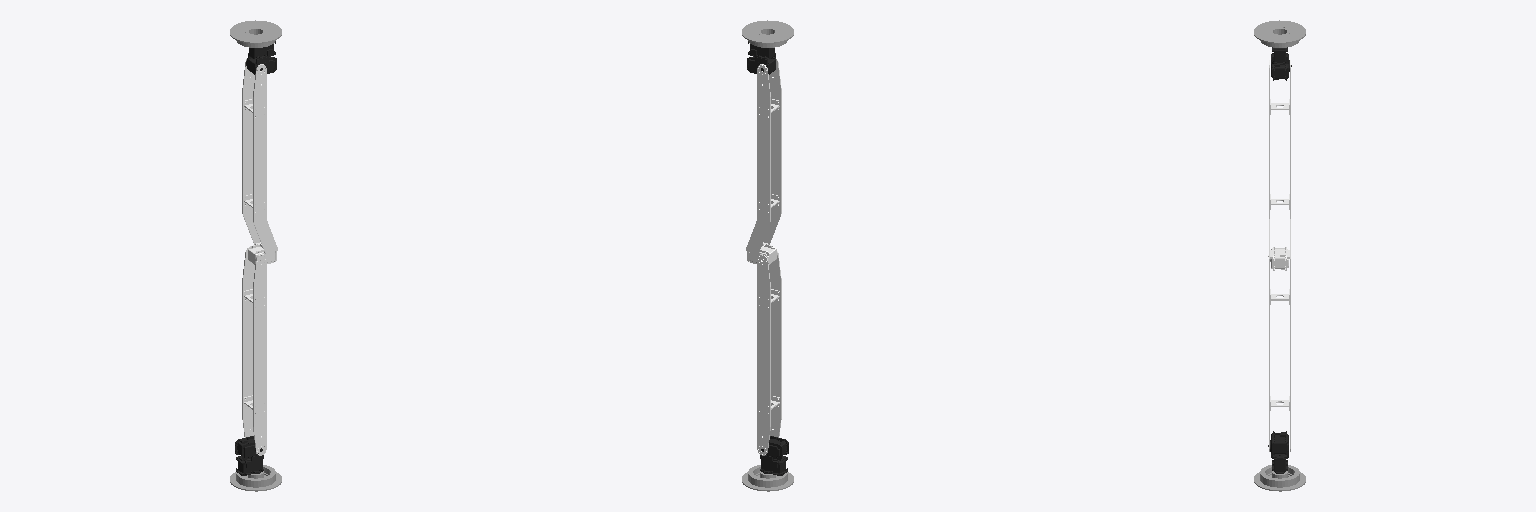
robot.urdf — cssgra_description:
<?xml version="1.0" encoding="utf-8"?>
<!-- This URDF was automatically created by SolidWorks to URDF Exporter! Originally created by [author] ([email redacted]) 
     Commit Version: 1.6.0-1-g15f4949  Build Version: 1.6.7594.29634
     For more information, please see http://wiki.ros.org/sw_urdf_exporter -->
<robot
  name="cssgra_description">
  <link
    name="base_link">
    <inertial>
      <origin
        xyz="3.38135552543917E-18 1.39995301592574E-14 0.00865340704835349"
        rpy="0 0 0" />
      <mass
        value="0.104081875675298" />
      <inertia
        ixx="9.34114138754385E-05"
        ixy="3.3881317890172E-20"
        ixz="-4.84750654577744E-21"
        iyy="9.34114138754385E-05"
        iyz="1.32672194581939E-21"
        izz="0.000180182404564937" />
    </inertial>
    <visual>
      <origin
        xyz="0 0 0"
        rpy="0 0 0" />
      <geometry>
        <mesh
          filename="package://cssgra_description/meshes/base_link.STL" />
      </geometry>
      <material
        name="">
        <color
          rgba="0.705882352941176 0.705882352941176 0.705882352941176 1" />
      </material>
    </visual>
    <collision>
      <origin
        xyz="0 0 0"
        rpy="0 0 0" />
      <geometry>
        <mesh
          filename="package://cssgra_description/meshes/base_link.STL" />
      </geometry>
    </collision>
  </link>
  <link
    name="link_1">
    <inertial>
      <origin
        xyz="-0.000271681271952353 -0.0150140766790528 -0.0213414598487383"
        rpy="0 0 0" />
      <mass
        value="0.14834901352298" />
      <inertia
        ixx="5.50771105643597E-05"
        ixy="8.81204363357832E-07"
        ixz="2.95382564559529E-14"
        iyy="3.39857451221958E-05"
        iyz="-8.81206909226304E-07"
        izz="5.50472493095356E-05" />
    </inertial>
    <visual>
      <origin
        xyz="0 0 0"
        rpy="0 0 0" />
      <geometry>
        <mesh
          filename="package://cssgra_description/meshes/link_1.STL" />
      </geometry>
      <material
        name="">
        <color
          rgba="0.207843137254902 0.207843137254902 0.207843137254902 1" />
      </material>
    </visual>
    <collision>
      <origin
        xyz="0 0 0"
        rpy="0 0 0" />
      <geometry>
        <mesh
          filename="package://cssgra_description/meshes/link_1.STL" />
      </geometry>
    </collision>
  </link>
  <joint
    name="joint_1"
    type="revolute">
    <origin
      xyz="0 0 0.0464999999999995"
      rpy="3.14159265358979 0 1.57079632844264" />
    <parent
      link="base_link" />
    <child
      link="link_1" />
    <axis
      xyz="0 0 1" />
    <limit
      lower="-3.1416"
      upper="3.1416"
      effort="0"
      velocity="0" />
  </joint>
  <link
    name="link_2">
    <inertial>
      <origin
        xyz="0.250090421520455 4.99999969142107E-05 0.00353644336773435"
        rpy="0 0 0" />
      <mass
        value="0.122021305147145" />
      <inertia
        ixx="1.81887274604454E-05"
        ixy="-3.57515676032217E-17"
        ixz="3.82702100995332E-08"
        iyy="0.00222747645130509"
        iyz="5.7329358274516E-15"
        izz="0.00222089842478331" />
    </inertial>
    <visual>
      <origin
        xyz="0 0 0"
        rpy="0 0 0" />
      <geometry>
        <mesh
          filename="package://cssgra_description/meshes/link_2.STL" />
      </geometry>
      <material
        name="">
        <color
          rgba="1 1 1 1" />
      </material>
    </visual>
    <collision>
      <origin
        xyz="0 0 0"
        rpy="0 0 0" />
      <geometry>
        <mesh
          filename="package://cssgra_description/meshes/link_2.STL" />
      </geometry>
    </collision>
  </link>
  <joint
    name="joint_2"
    type="revolute">
    <origin
      xyz="0 0 -0.0431000000000004"
      rpy="1.57079632931414 1.5707963267949 0" />
    <parent
      link="link_1" />
    <child
      link="link_2" />
    <axis
      xyz="0 -1 0" />
    <limit
      lower="-3.1416"
      upper="3.1416"
      effort="0"
      velocity="0" />
  </joint>
  <link
    name="link_3">
    <inertial>
      <origin
        xyz="0.158329868400325 -0.00538321785599336 0.00016820453911892"
        rpy="0 0 0" />
      <mass
        value="0.194472672385899" />
      <inertia
        ixx="5.41049152588267E-05"
        ixy="-6.08191846183022E-05"
        ixz="-1.84657750832976E-13"
        iyy="0.00205938080734716"
        iyz="-8.81206260386423E-07"
        izz="0.00207996379707721" />
    </inertial>
    <visual>
      <origin
        xyz="0 0 0"
        rpy="0 0 0" />
      <geometry>
        <mesh
          filename="package://cssgra_description/meshes/link_3.STL" />
      </geometry>
      <material
        name="">
        <color
          rgba="1 1 1 1" />
      </material>
    </visual>
    <collision>
      <origin
        xyz="0 0 0"
        rpy="0 0 0" />
      <geometry>
        <mesh
          filename="package://cssgra_description/meshes/link_3.STL" />
      </geometry>
    </collision>
  </link>
  <joint
    name="joint_3"
    type="revolute">
    <origin
      xyz="0.5 0 0"
      rpy="1.57079632990777 0 0" />
    <parent
      link="link_2" />
    <child
      link="link_3" />
    <axis
      xyz="0 0 1" />
    <limit
      lower="0.0"
      upper="3.1416"
      effort="0"
      velocity="0" />
  </joint>
  <link
    name="link_4">
    <inertial>
      <origin
        xyz="-0.0217585393900934 -0.0150140766805797 0.000169322370938292"
        rpy="0 0 0" />
      <mass
        value="0.148349013530951" />
      <inertia
        ixx="5.50472493123864E-05"
        ixy="8.81204281678862E-07"
        ixz="-3.16296276202153E-14"
        iyy="3.39857451244317E-05"
        iyz="-8.81207102935744E-07"
        izz="5.50771105692038E-05" />
    </inertial>
    <visual>
      <origin
        xyz="0 0 0"
        rpy="0 0 0" />
      <geometry>
        <mesh
          filename="package://cssgra_description/meshes/link_4.STL" />
      </geometry>
      <material
        name="">
        <color
          rgba="0.207843137254902 0.207843137254902 0.207843137254902 1" />
      </material>
    </visual>
    <collision>
      <origin
        xyz="0 0 0"
        rpy="0 0 0" />
      <geometry>
        <mesh
          filename="package://cssgra_description/meshes/link_4.STL" />
      </geometry>
    </collision>
  </link>
  <joint
    name="joint_4"
    type="revolute">
    <origin
      xyz="0.5 0 -4.99999999685843E-05"
      rpy="-3.14159265358979 0 3.14159265358978" />
    <parent
      link="link_3" />
    <child
      link="link_4" />
    <axis
      xyz="0 0 1" />
    <limit
      lower="-3.1416"
      upper="3.1416"
      effort="0"
      velocity="0" />
  </joint>
  <link
    name="link_5">
    <inertial>
      <origin
        xyz="2.29307657008452E-18 1.58386526272459E-18 0.00865340704835363"
        rpy="0 0 0" />
      <mass
        value="0.104081875675299" />
      <inertia
        ixx="9.34114138754399E-05"
        ixy="0"
        ixz="-7.47125572669488E-21"
        iyy="9.34114138754399E-05"
        iyz="-1.32660401302391E-21"
        izz="0.000180182404564939" />
    </inertial>
    <visual>
      <origin
        xyz="0 0 0"
        rpy="0 0 0" />
      <geometry>
        <mesh
          filename="package://cssgra_description/meshes/link_5.STL" />
      </geometry>
      <material
        name="">
        <color
          rgba="0.705882352941176 0.705882352941176 0.705882352941176 1" />
      </material>
    </visual>
    <collision>
      <origin
        xyz="0 0 0"
        rpy="0 0 0" />
      <geometry>
        <mesh
          filename="package://cssgra_description/meshes/link_5.STL" />
      </geometry>
    </collision>
  </link>
  <joint
    name="joint_5"
    type="revolute">
    <origin
      xyz="-0.0895999999999999 0 -9.99999999961731E-05"
      rpy="-1.5707963267949 0 -1.5707963267949" />
    <parent
      link="link_4" />
    <child
      link="link_5" />
    <axis
      xyz="0 0 -1" />
    <limit
      lower="-3.1416"
      upper="3.1416"
      effort="0"
      velocity="0" />
  </joint>
</robot>

--- What the picture shows (computed from the rendered views, not written in the file) ---
The picture shows the robot from 3 angles, left to right: view 1: azimuth 30°, elevation 25°; view 2: azimuth 150°, elevation 25°; view 3: azimuth 270°, elevation 25°; orthographic projection.
Robot: cssgra_description — 6 links, 5 joints (5 revolute); root link base_link; default pose: all joints at 0.
Links seen in each view (by area): view 1: link_3, link_2, link_5, base_link, link_1, link_4; view 2: link_3, link_2, link_5, base_link, link_1, link_4; view 3: link_5, link_3, base_link, link_1, link_2, link_4.
Boxes of the visible links, box(x1,y1,x2,y2) form: link_3: box(242, 59, 277, 264); link_2: box(242, 248, 266, 455); link_5: box(230, 20, 281, 47); base_link: box(230, 465, 281, 491); link_1: box(235, 436, 263, 475); link_4: box(246, 41, 276, 74); link_3: box(746, 58, 781, 264); link_2: box(757, 248, 781, 455); link_5: box(742, 20, 793, 47); base_link: box(742, 465, 793, 491); link_1: box(760, 436, 788, 475); link_4: box(747, 41, 775, 74); link_5: box(1254, 20, 1305, 47); link_3: box(1268, 60, 1290, 270); base_link: box(1254, 465, 1305, 491); link_1: box(1268, 431, 1288, 473); link_2: box(1269, 259, 1290, 451); link_4: box(1271, 47, 1291, 80).
Bounding box of the posed robot: 0.1259 × 0.1259 × 1.18 m (x, y, z).
6 mesh visuals loaded from 6 distinct referenced files (6 binary STL).